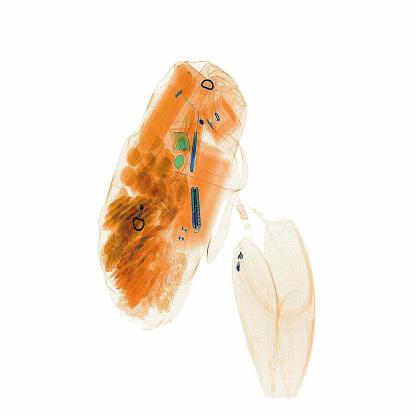scissors: (188, 182, 205, 236)
